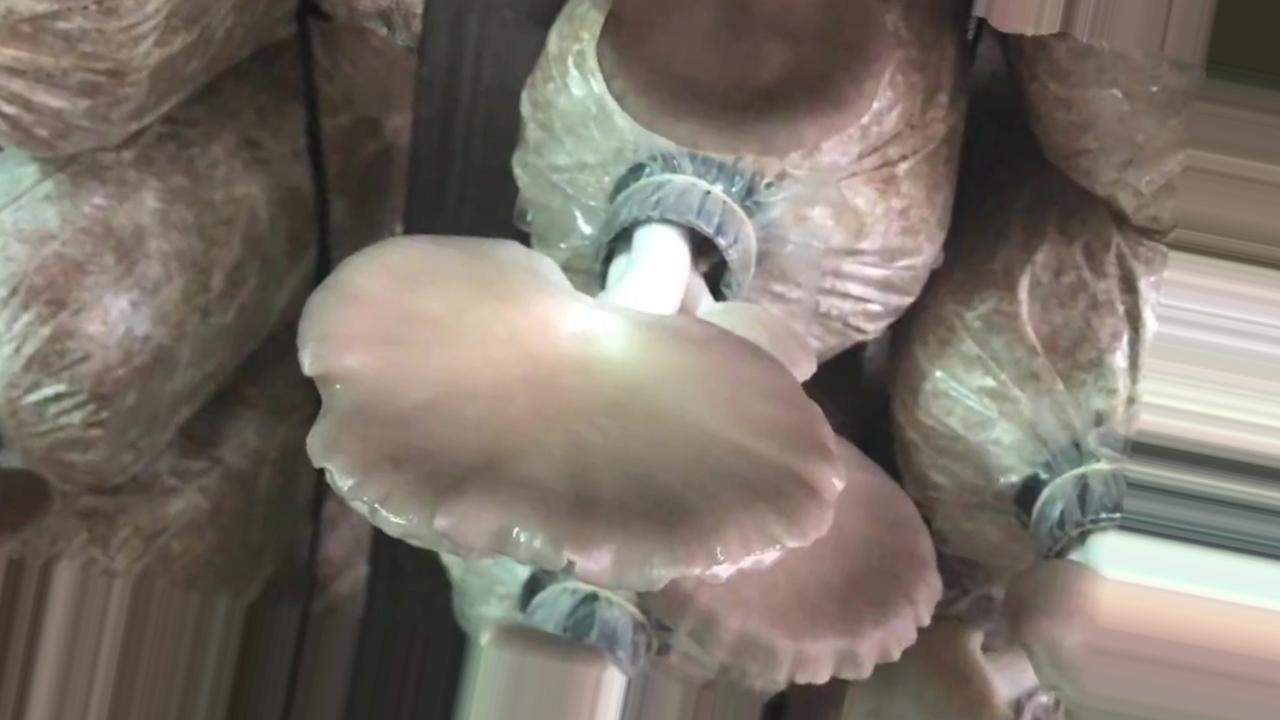nam: (291, 155, 842, 596), (638, 437, 943, 688), (593, 5, 892, 159), (1007, 462, 1117, 684)
